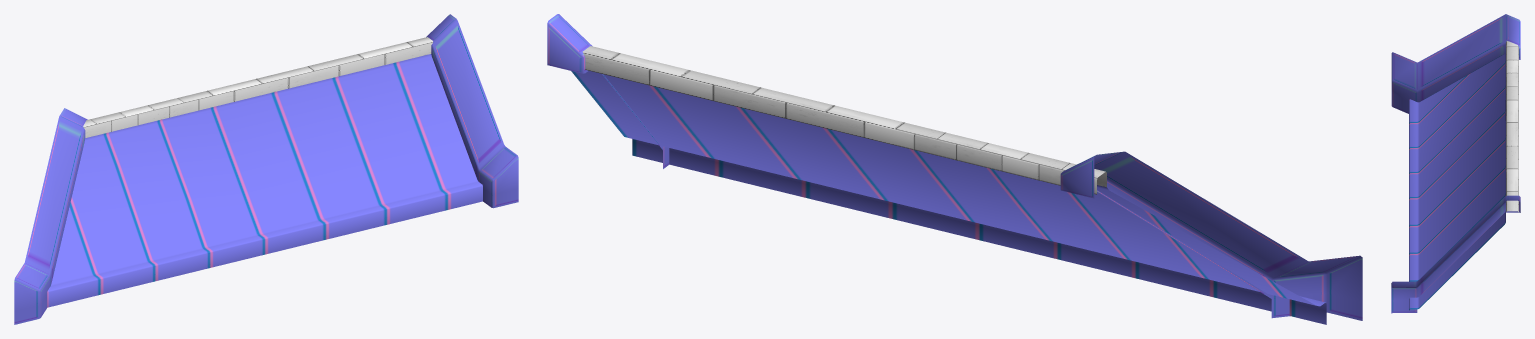
File: SM_Roof_03b.fbx
3 views of the same model, side by side, from view 1: azimuth 30°, elevation 25°; view 2: azimuth 150°, elevation 25°; view 3: azimuth 270°, elevation 25° (orthographic). The views are drawn at different scales.
Parts seen in each view (by area): view 1: SM_Roof_Corner_03b; view 2: SM_Roof_Corner_03b; view 3: SM_Roof_Corner_03b.
Part boxes in pixels (box(x1,y1,x2,y2)): SM_Roof_Corner_03b: box(14, 14, 518, 324); SM_Roof_Corner_03b: box(547, 14, 1362, 324); SM_Roof_Corner_03b: box(1391, 14, 1520, 313).
Size of the model in its own units: 661 by 157 by 173.
